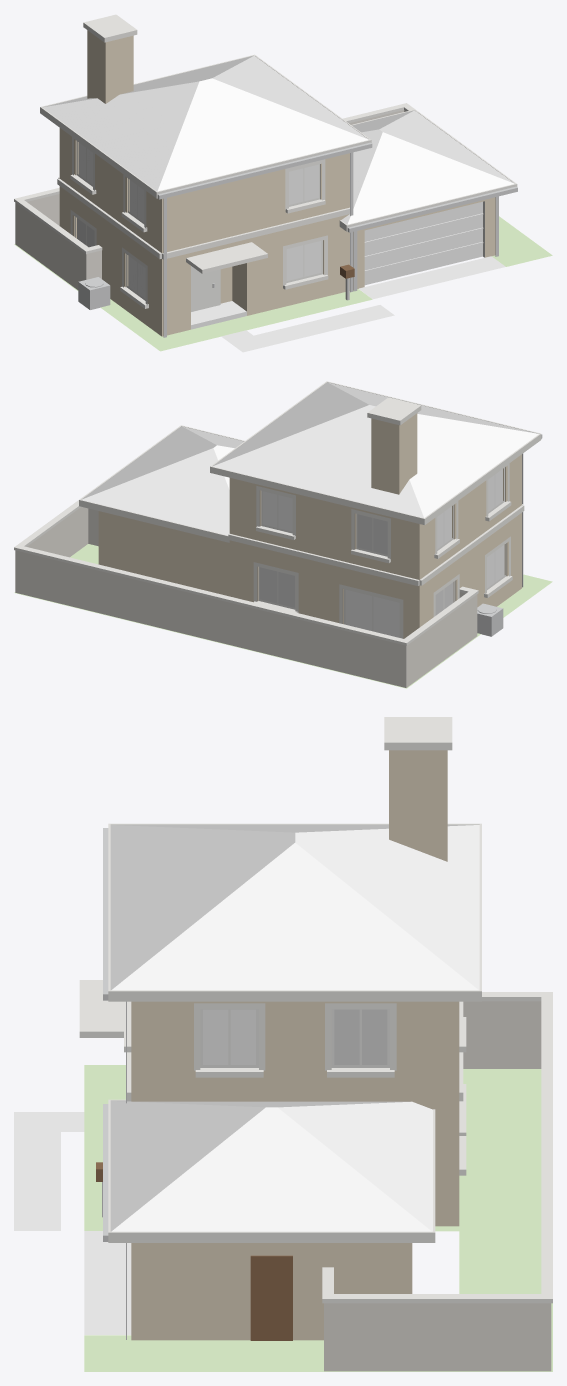
Rendered from house_tract262t.glb.
3 views of the same model, one above another, from view 1: azimuth 30°, elevation 25°; view 2: azimuth 150°, elevation 25°; view 3: azimuth 270°, elevation 25° (orthographic). The views are drawn at different scales.
Visible parts, largest first — view 1: house_tract262t_Roof, house_tract262t_Walls, house_tract262t_Trim, house_tract262t_Doors, house_tract262t_Lawn, house_tract262t_Site, house_tract262t_Details, house_tract262t_Walls2, house_tract262t_Glass, house_tract262t_Frames; view 2: house_tract262t_Walls, house_tract262t_Roof, house_tract262t_Walls2, house_tract262t_Trim, house_tract262t_Glass, house_tract262t_WindowsLit, house_tract262t_Lawn, house_tract262t_Frames, house_tract262t_Details; view 3: house_tract262t_Roof, house_tract262t_Walls, house_tract262t_Lawn, house_tract262t_Trim, house_tract262t_Walls2, house_tract262t_Site, house_tract262t_Accent, house_tract262t_WindowsLit, house_tract262t_Glass, house_tract262t_Details, house_tract262t_Frames.
Part boxes in pixels (<box>): house_tract262t_Roof: <box>42,55,514,224</box>; house_tract262t_Walls: <box>59,30,495,336</box>; house_tract262t_Trim: <box>14,14,517,308</box>; house_tract262t_Doors: <box>364,201,483,285</box>; house_tract262t_Lawn: <box>14,216,552,351</box>; house_tract262t_Site: <box>191,256,505,352</box>; house_tract262t_Details: <box>78,142,517,337</box>; house_tract262t_Walls2: <box>15,110,405,289</box>; house_tract262t_Glass: <box>78,142,321,298</box>; house_tract262t_Frames: <box>75,141,322,311</box>; house_tract262t_Walls: <box>98,413,521,638</box>; house_tract262t_Roof: <box>81,382,538,535</box>; house_tract262t_Walls2: <box>15,507,477,687</box>; house_tract262t_Trim: <box>14,381,541,645</box>; house_tract262t_Glass: <box>262,469,504,637</box>; house_tract262t_WindowsLit: <box>260,514,453,615</box>; house_tract262t_Lawn: <box>14,544,552,688</box>; house_tract262t_Frames: <box>258,467,506,631</box>; house_tract262t_Details: <box>477,434,542,636</box>; house_tract262t_Roof: <box>110,825,479,1231</box>; house_tract262t_Walls: <box>131,750,459,1340</box>; house_tract262t_Lawn: <box>84,1065,552,1371</box>; house_tract262t_Trim: <box>79,717,552,1303</box>; house_tract262t_Walls2: <box>324,1001,551,1371</box>; house_tract262t_Site: <box>14,1112,131,1334</box>; house_tract262t_Accent: <box>96,1162,292,1340</box>; house_tract262t_WindowsLit: <box>334,1009,387,1064</box>; house_tract262t_Glass: <box>203,1009,255,1064</box>; house_tract262t_Details: <box>102,828,126,1339</box>; house_tract262t_Frames: <box>200,1009,389,1067</box>.
Size of the model in its own units: 63.62 by 35.58 by 46.
